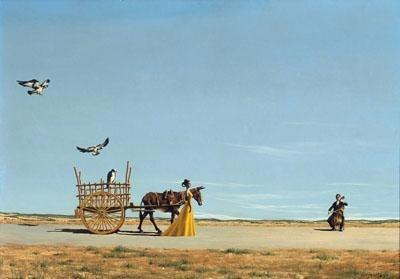person: (162, 178, 198, 238), (327, 193, 350, 231)
